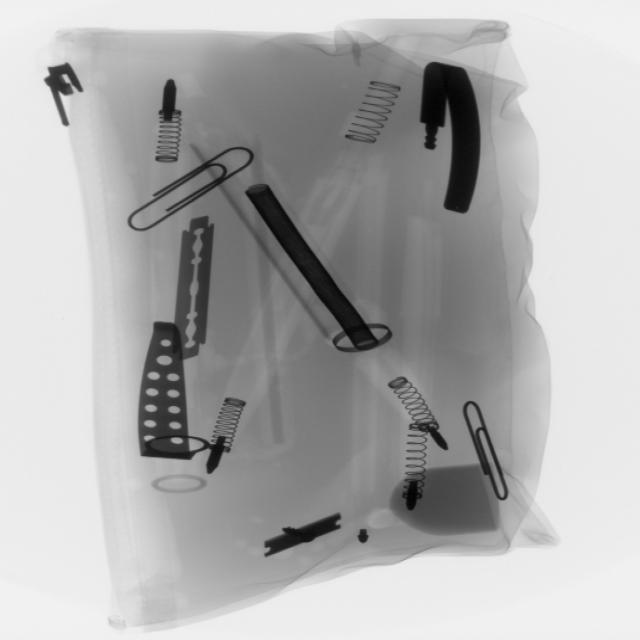BLADE: (167, 211, 225, 370)
